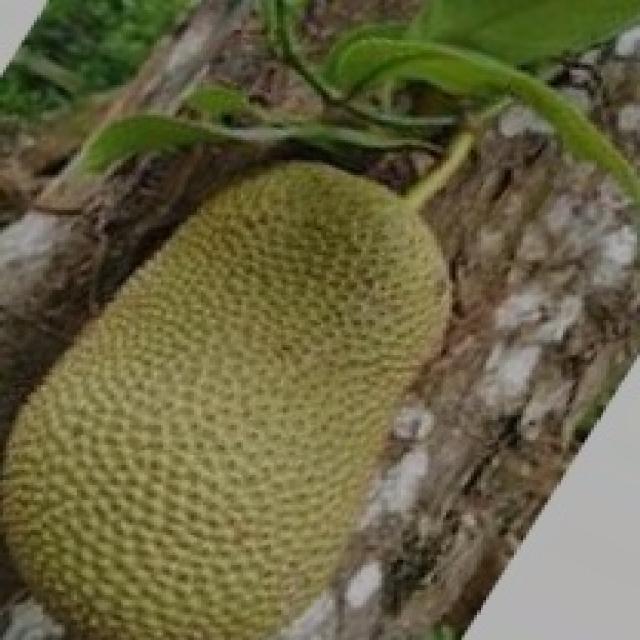Fruit: (0, 265, 397, 640), (65, 130, 483, 425)
